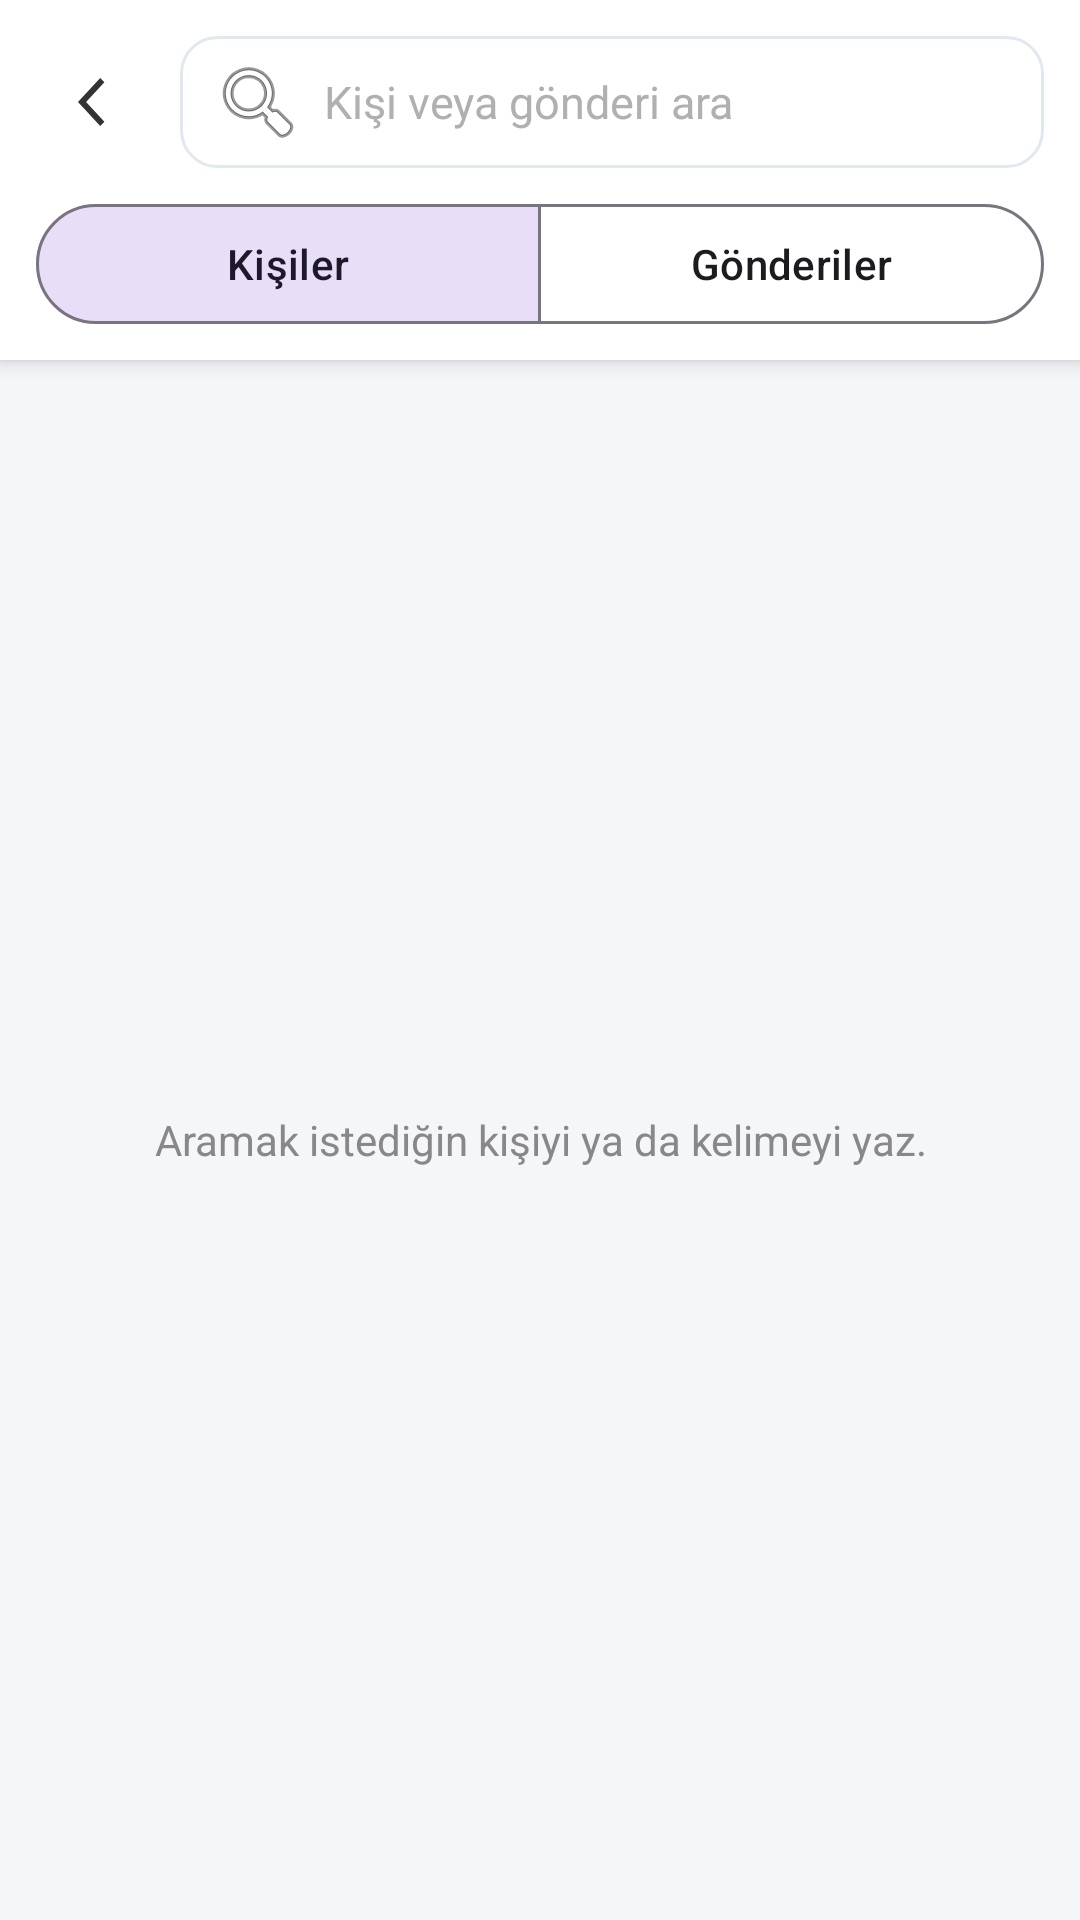

Icon click points for this 1080px x 1920px phone screenshot, format (x,y):
Geri: (91,102)
